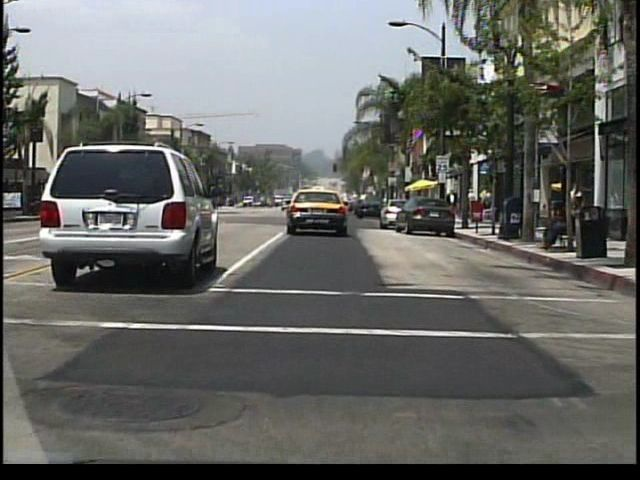person: (538, 201, 577, 254), (565, 177, 580, 236), (471, 181, 484, 220), (446, 184, 459, 220), (478, 186, 491, 221)
